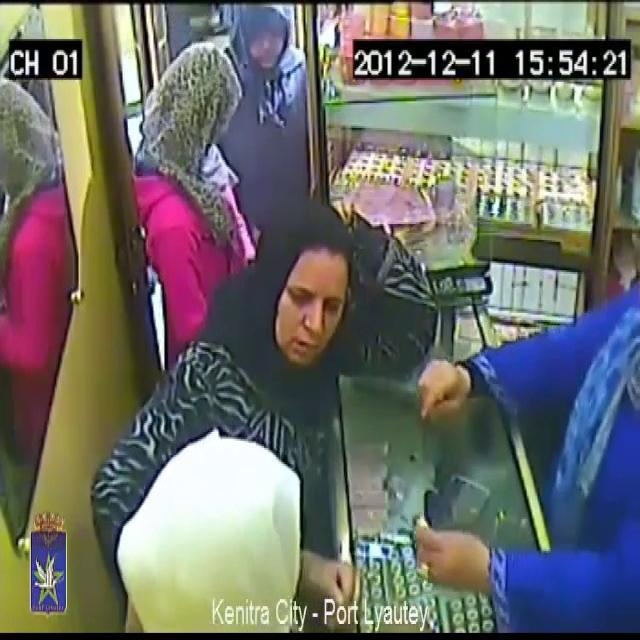normal: (475, 234, 640, 640), (121, 433, 362, 640), (130, 14, 250, 279), (246, 195, 378, 412), (223, 0, 323, 188)
